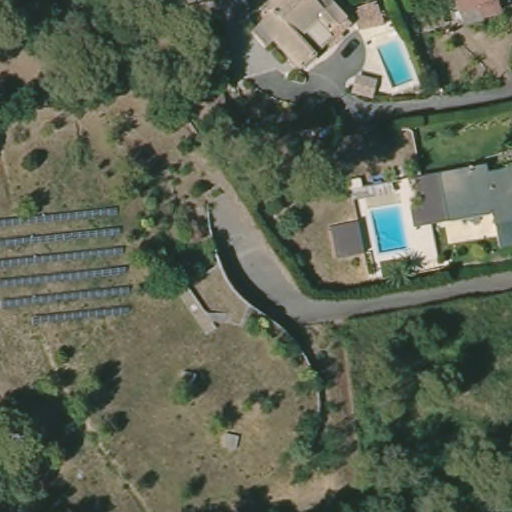pool: (373, 35, 415, 90), (372, 201, 412, 254)
